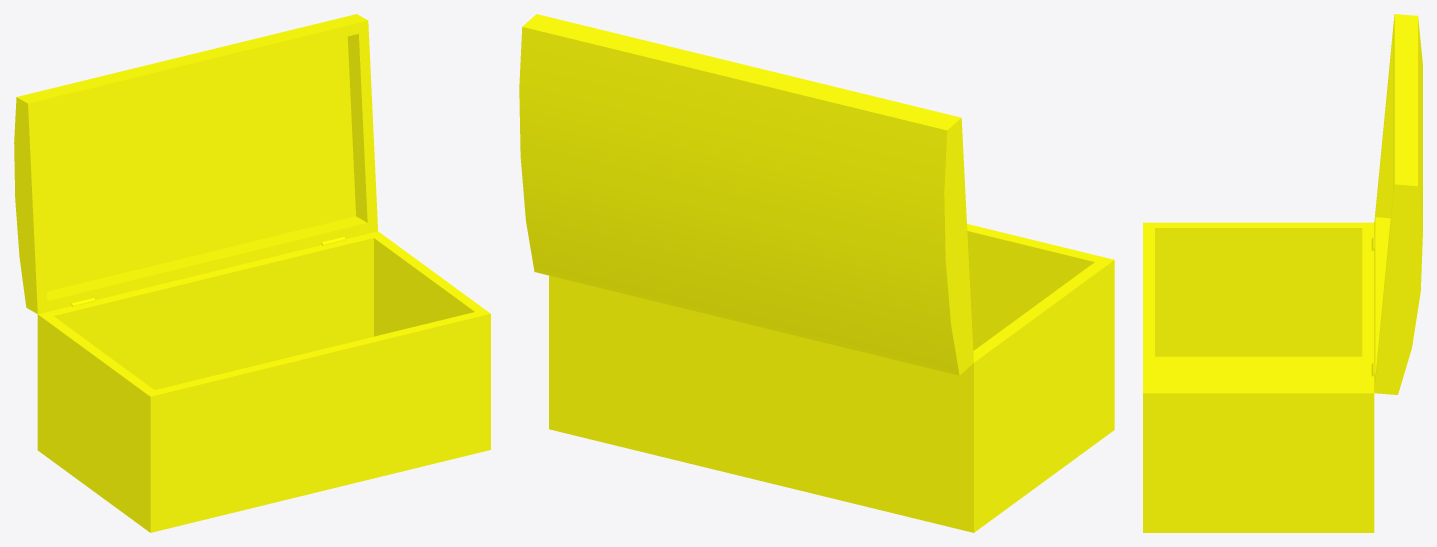
Rendered from wooden_crate_3.glb.
The picture shows the model from 3 angles, left to right: view 1: azimuth 30°, elevation 25°; view 2: azimuth 150°, elevation 25°; view 3: azimuth 270°, elevation 25°; orthographic projection. The views are drawn at different scales.
Visible parts, largest first — view 1: wooden_crate_3, wooden_crate_3_lid; view 2: wooden_crate_3_lid, wooden_crate_3; view 3: wooden_crate_3, wooden_crate_3_lid.
Boxes of the visible parts, x1,y1,x2,y2 form: wooden_crate_3: [37, 231, 490, 532]; wooden_crate_3_lid: [14, 14, 377, 313]; wooden_crate_3_lid: [519, 14, 973, 375]; wooden_crate_3: [549, 224, 1114, 532]; wooden_crate_3: [1143, 222, 1374, 532]; wooden_crate_3_lid: [1374, 14, 1422, 394].
Size of the model in its own units: 0.68 by 0.6485 by 0.472.
1 material, 1 textured.
